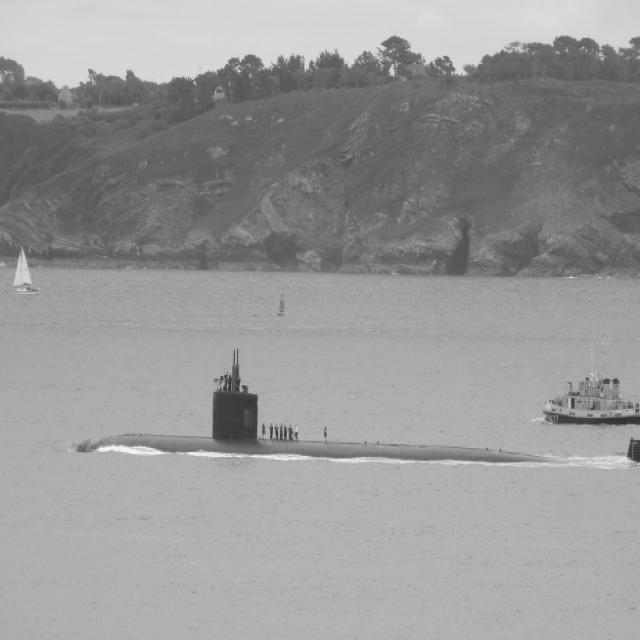submarine: (74, 366, 640, 473)
